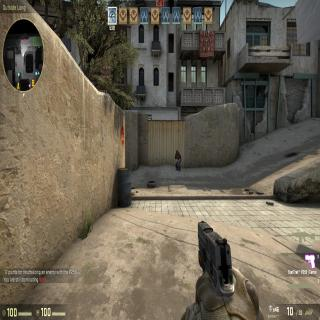T-Body: (174, 148, 182, 172)
T-Head: (175, 148, 178, 154)
